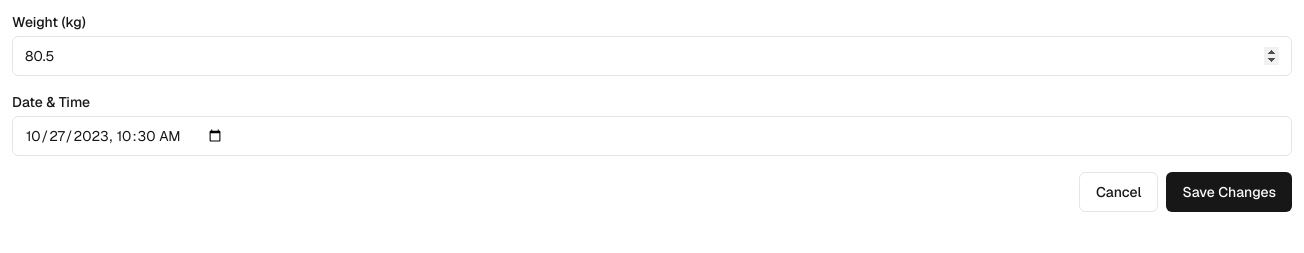
Test: EditWeightForm › clears date error message when date input changes after a date error (invalid date)
Trigger date error
Step 1. Clear the field labelled "Date & Time" → (652, 136), box [12, 116, 1292, 156]
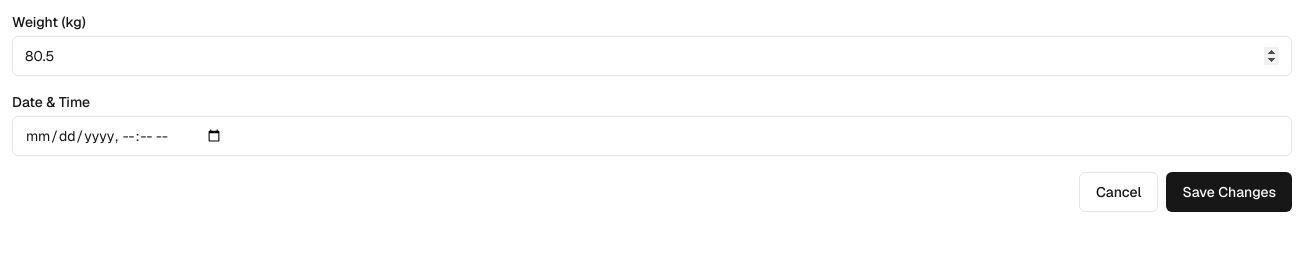
Step 2. Click the button "Save Changes" → (1229, 192), box [1166, 172, 1292, 212]
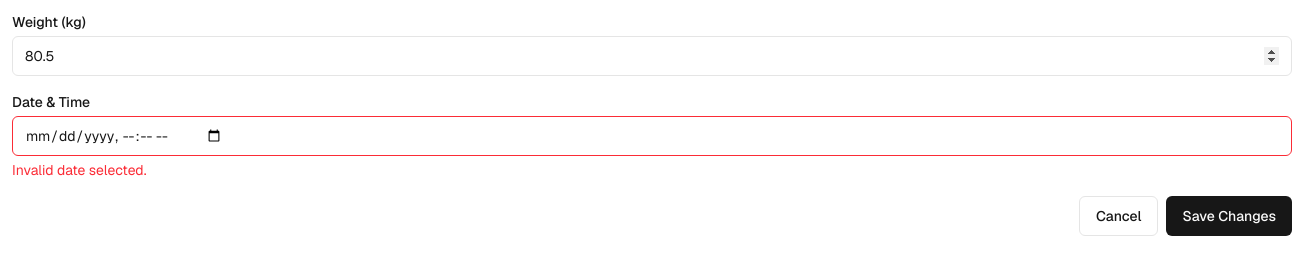
Check: the text "Invalid date selected." is shown, box [12, 161, 146, 179]
Clear error by typing valid input in date field
Step 3. Type "2023-11-01T10:00" into the field labelled "Date & Time" → (652, 136), box [12, 116, 1292, 156]
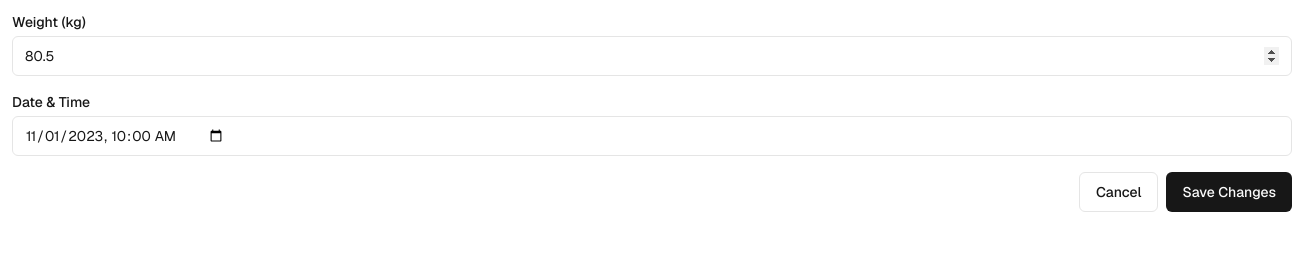
Check: the text "Invalid date selected." is gone
